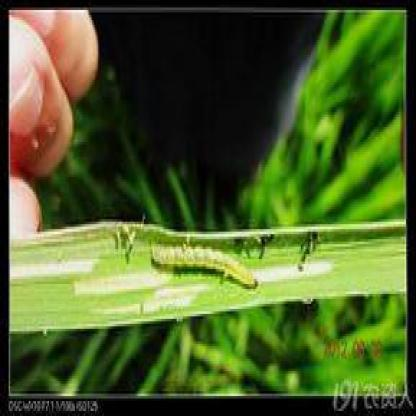leaf-folder: (144, 230, 262, 306)
